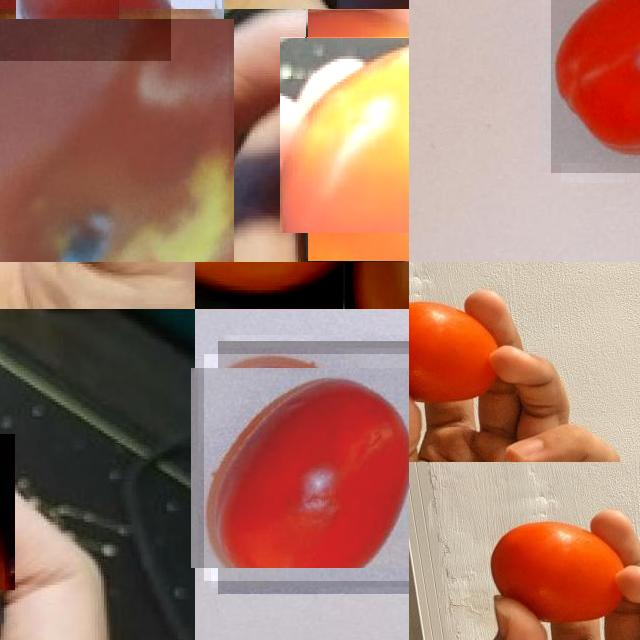0: (204, 354, 409, 581), (195, 262, 409, 309)
Fresh Tomato: (281, 45, 409, 233), (550, 0, 640, 172), (0, 0, 171, 61)
Rotten Tomato: (0, 14, 229, 262)
